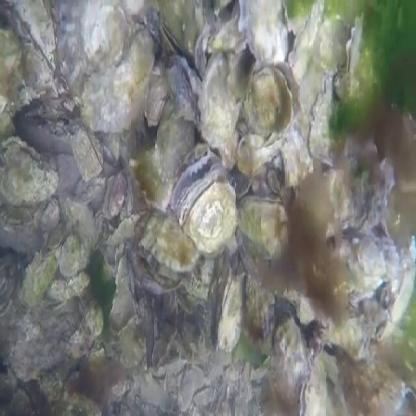Oyster- Indeterminate: (308, 77, 345, 166), (238, 197, 283, 253), (364, 158, 395, 232), (320, 317, 369, 360), (166, 67, 198, 129), (299, 360, 328, 416), (283, 0, 315, 34), (347, 11, 364, 73), (146, 76, 167, 126), (195, 25, 209, 79), (87, 347, 106, 365), (0, 276, 7, 293)
Oyster-Closed: (79, 28, 155, 134), (0, 0, 58, 99), (197, 48, 240, 146), (0, 29, 34, 130), (82, 0, 127, 72), (156, 99, 194, 180), (272, 317, 306, 401), (129, 146, 169, 207), (22, 243, 60, 307), (217, 268, 245, 348), (243, 270, 273, 340), (318, 15, 351, 75), (71, 127, 104, 181), (118, 315, 147, 373), (359, 238, 397, 279), (60, 235, 80, 278), (35, 195, 60, 229), (76, 174, 102, 199)
Oyster-Open: (171, 146, 238, 258), (139, 208, 197, 289), (244, 61, 301, 136), (0, 137, 60, 205), (239, 0, 289, 65), (162, 24, 200, 81)
